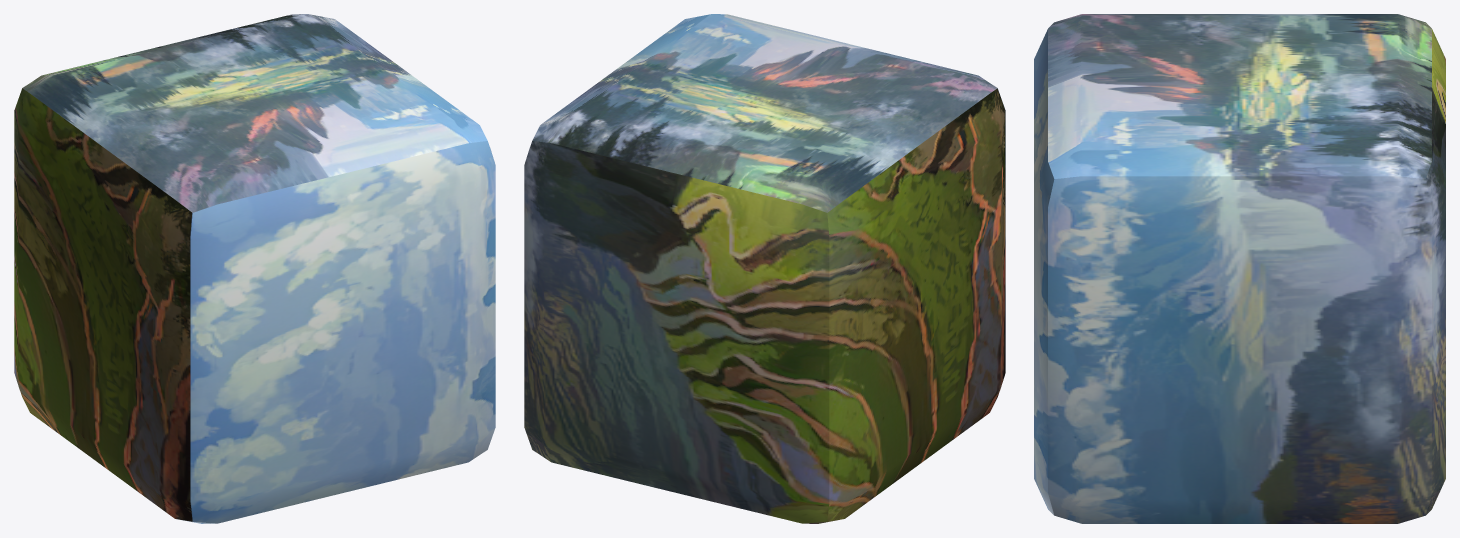
The model's file is mega test of doom.dae.
The picture shows the model from 3 angles, left to right: view 1: azimuth 30°, elevation 25°; view 2: azimuth 150°, elevation 25°; view 3: azimuth 270°, elevation 25°; orthographic projection. The views are drawn at different scales.
Visible parts, largest first — view 1: Cube; view 2: Cube; view 3: Cube.
Part boxes in pixels (x1,y1,x2,y2): Cube: (14, 14, 495, 523); Cube: (524, 14, 1005, 523); Cube: (1034, 14, 1445, 523).
Size of the model in its own units: 2 by 2 by 2.
1 material, 1 textured.
